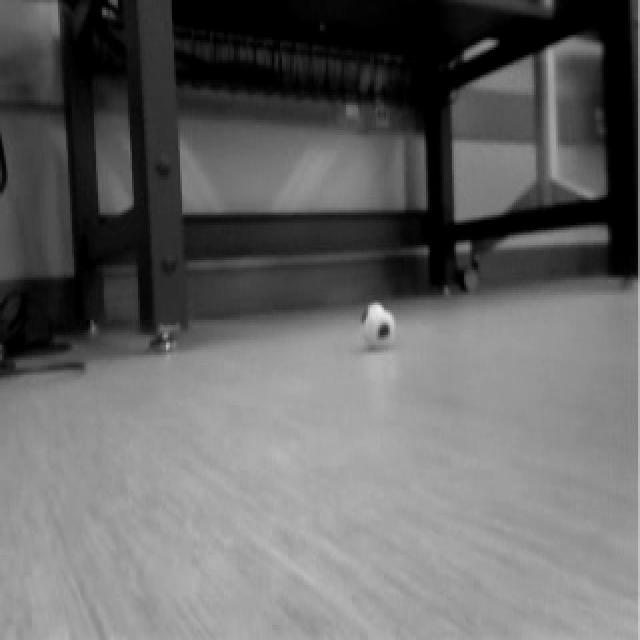ping-pong-ball: (359, 292, 399, 358)
